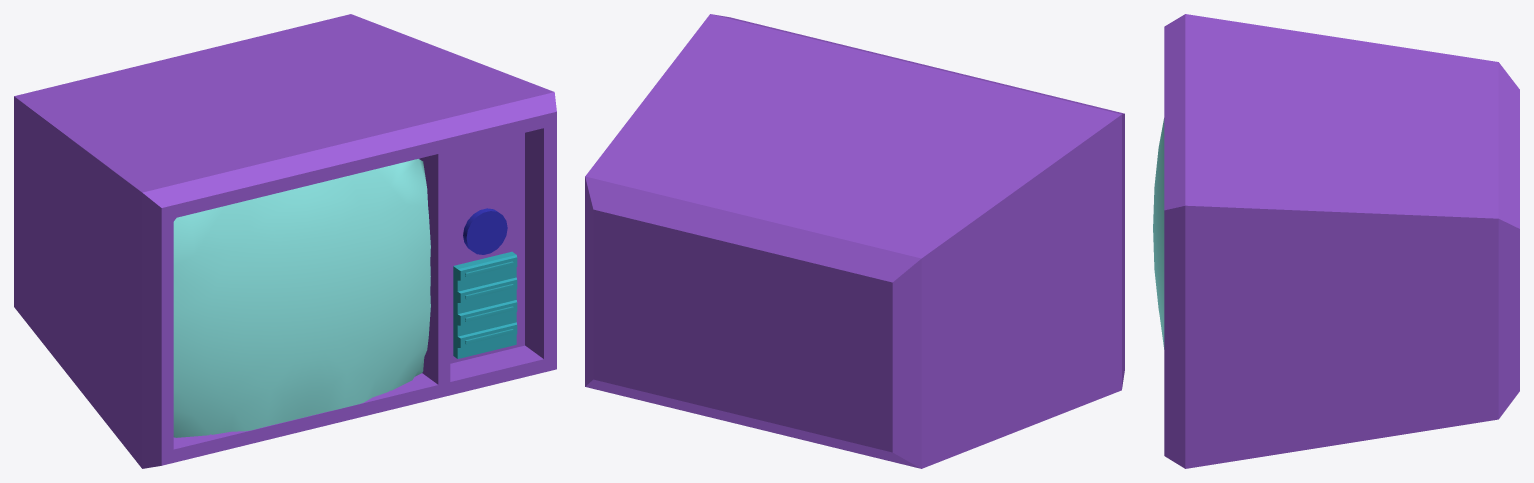
File: tvmodel_fixmaybe.fbx
The picture shows the model from 3 angles, left to right: view 1: azimuth 30°, elevation 25°; view 2: azimuth 150°, elevation 25°; view 3: azimuth 270°, elevation 25°; orthographic projection. The views are drawn at different scales.
Visible parts, largest first — view 1: Sphere006; view 2: Sphere006; view 3: Sphere006.
Part boxes in pixels (x1=…): Sphere006: x1=14, y1=14, x2=556, y2=468; Sphere006: x1=585, y1=14, x2=1124, y2=468; Sphere006: x1=1153, y1=14, x2=1519, y2=468.
Size of the model in its own units: 98.96 by 63.36 by 80.05.
